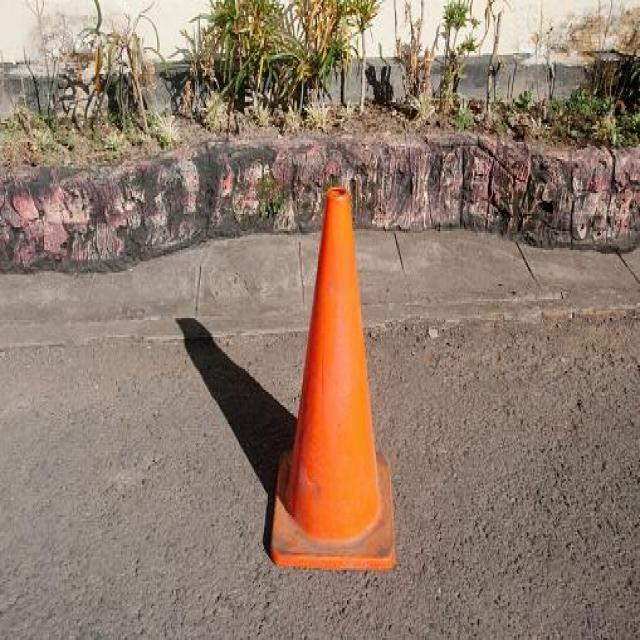Cone: (266, 185, 400, 578)
